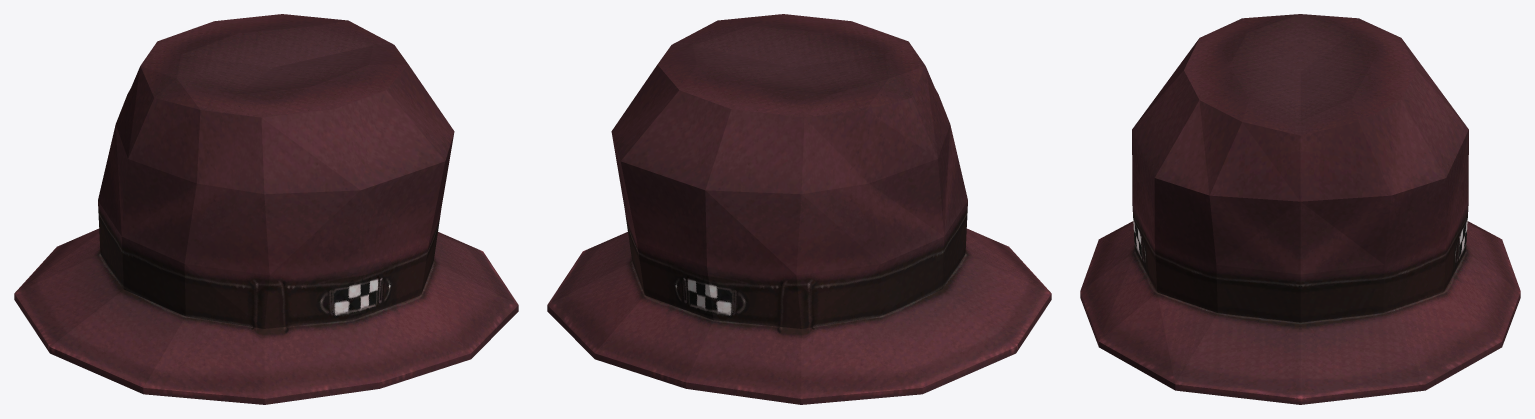
The model's file is Monkey_englishHat.obj.
3 views of the same model, side by side, from view 1: azimuth 30°, elevation 25°; view 2: azimuth 150°, elevation 25°; view 3: azimuth 270°, elevation 25° (orthographic). The views are drawn at different scales.
Visible parts, largest first — view 1: Monkey_englishHat_tri; view 2: Monkey_englishHat_tri; view 3: Monkey_englishHat_tri.
Part boxes in pixels (x1,y1,x2,y2): Monkey_englishHat_tri: (14,14,518,404); Monkey_englishHat_tri: (547,14,1051,404); Monkey_englishHat_tri: (1080,14,1520,404).
Size of the model in its own units: 0.4379 by 0.2452 by 0.3978.
Materials: 1 (1 with a texture image).
